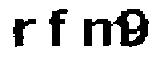9: (115, 6, 155, 53)
f: (43, 6, 70, 51)
m: (79, 16, 129, 52)
r: (10, 16, 35, 50)
